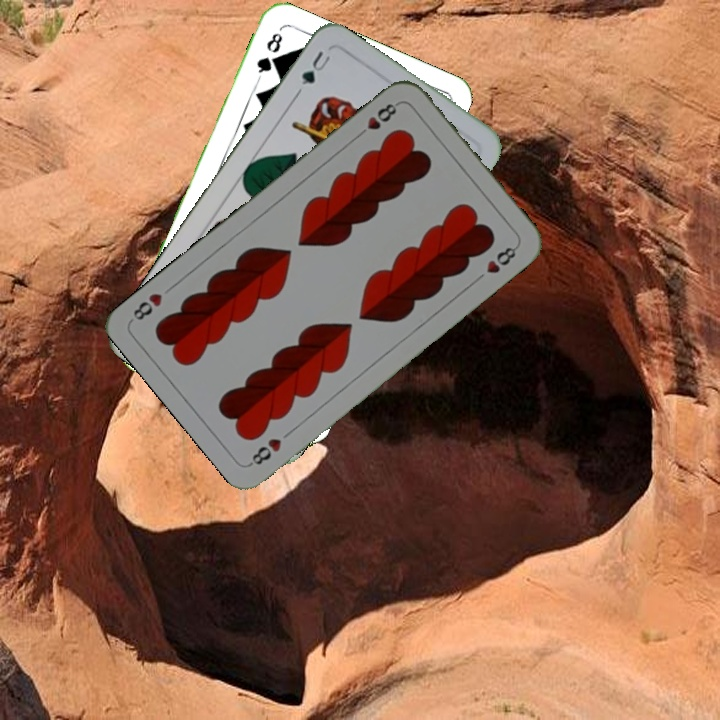G8: (252, 28, 285, 82)
GU: (297, 46, 334, 88)
H8: (352, 98, 402, 141), (245, 434, 285, 468)
